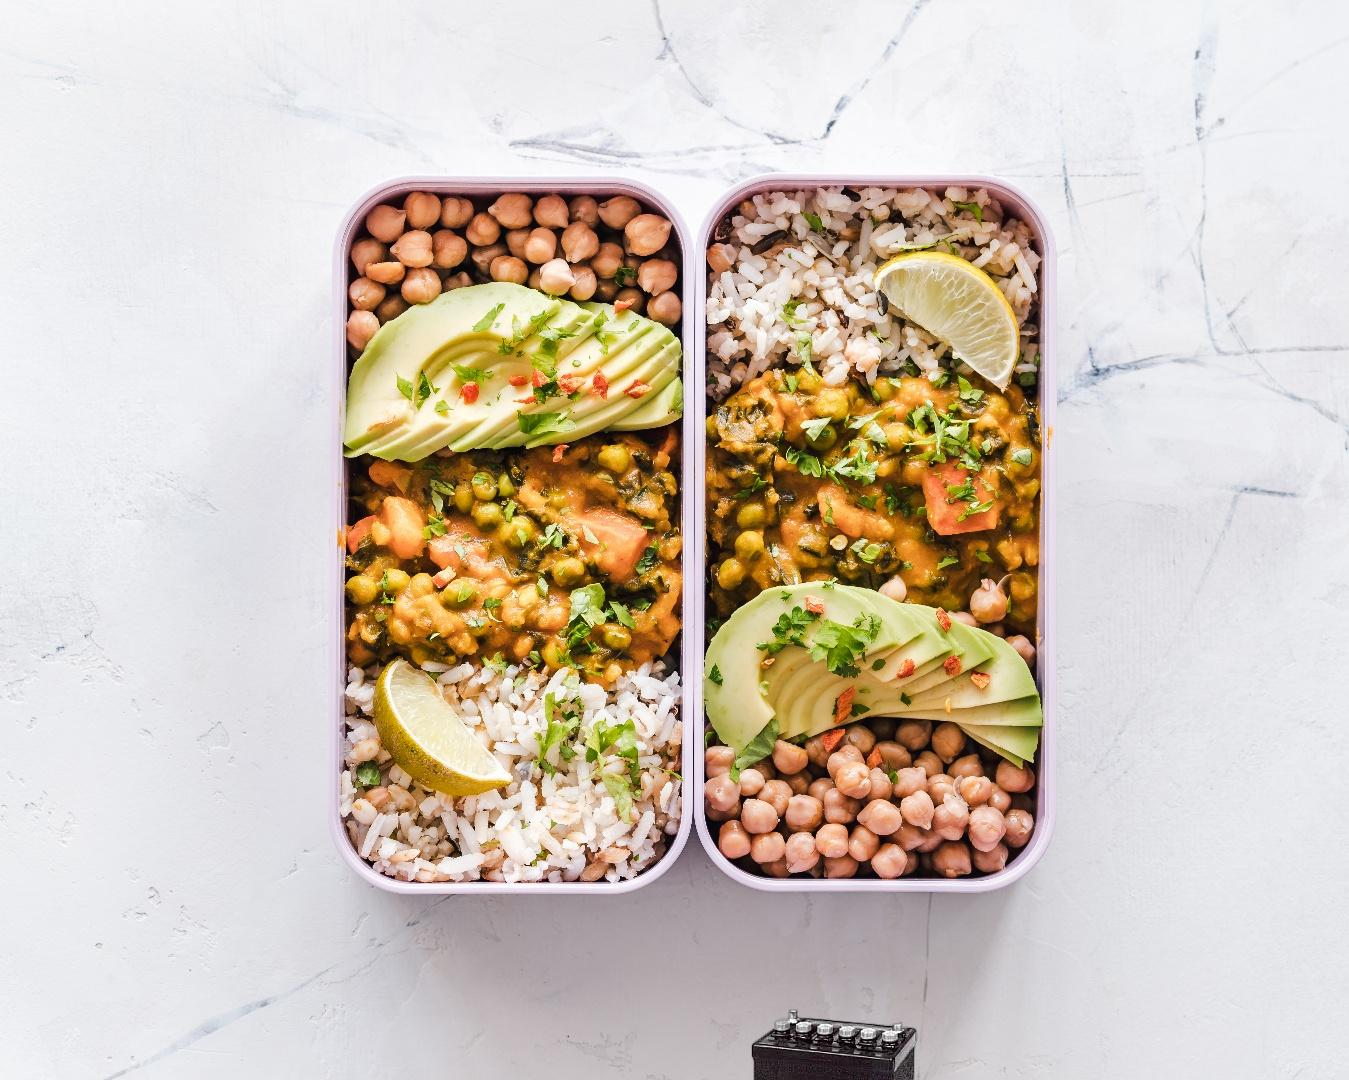battery: (732, 1007, 920, 1080)
